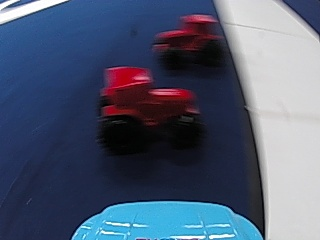tractor: (96, 63, 201, 155), (155, 13, 222, 67)
